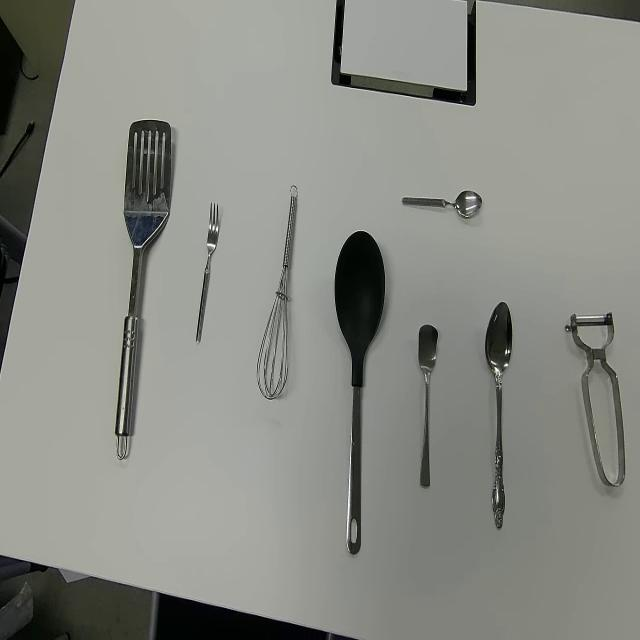Desert-Spoon: (484, 300, 514, 534)
Dinner-Fork: (195, 200, 220, 346)
Peeler: (563, 310, 626, 489)
Serving-Spoon: (114, 117, 173, 461), (333, 230, 386, 558)
Tea-Spoon: (418, 323, 438, 492), (400, 188, 483, 221)
Whisk: (256, 182, 300, 402)
